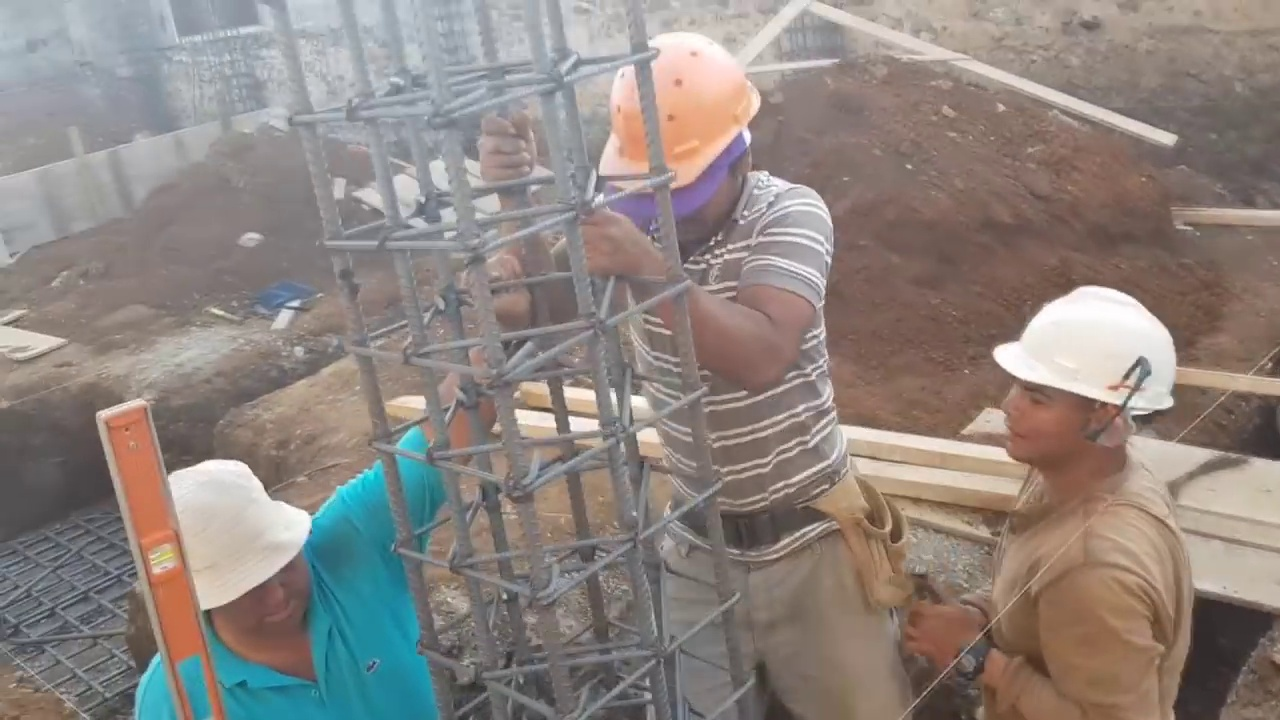helmet: (598, 33, 747, 211), (1010, 287, 1194, 424)
helmet-off: (163, 467, 324, 649)
helmet-on: (988, 282, 1198, 509), (594, 27, 763, 257)
person: (476, 28, 918, 719), (127, 257, 524, 720), (901, 282, 1198, 720)
